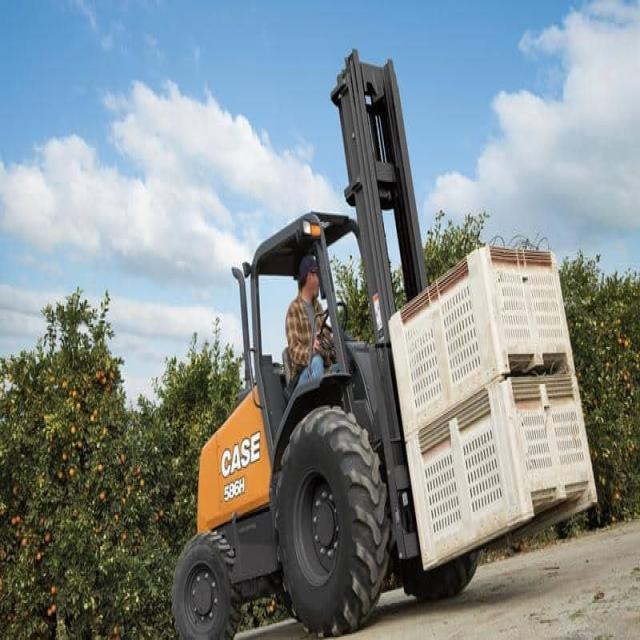driver: (284, 248, 342, 376)
forklift: (172, 51, 436, 611)
